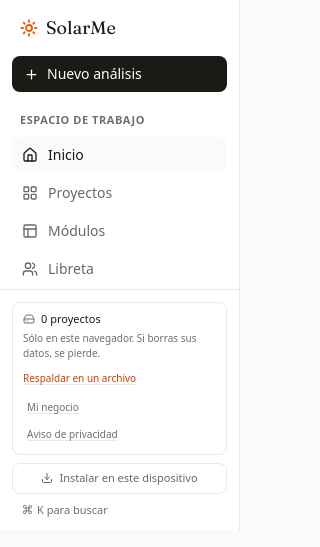
it: el botón de instalar › al pulsarlo abre el diálogo del sistema y luego se retira
Click the button "Instalar en este dispositivo" at point(120, 478), box top-left (12, 463), bottom-right (227, 494)
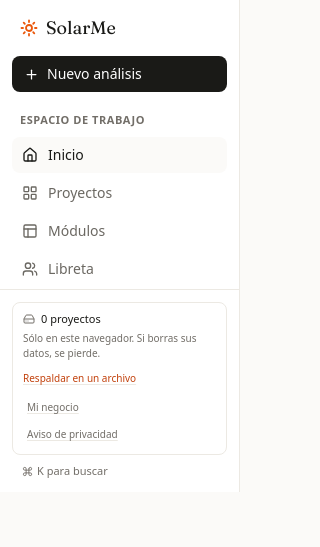
Expected: the button "Instalar en este dispositivo" is gone
